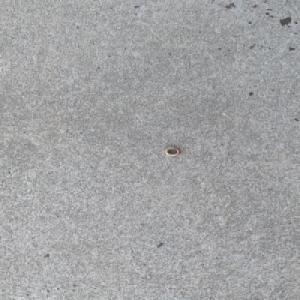Nut: (164, 146, 181, 156)
